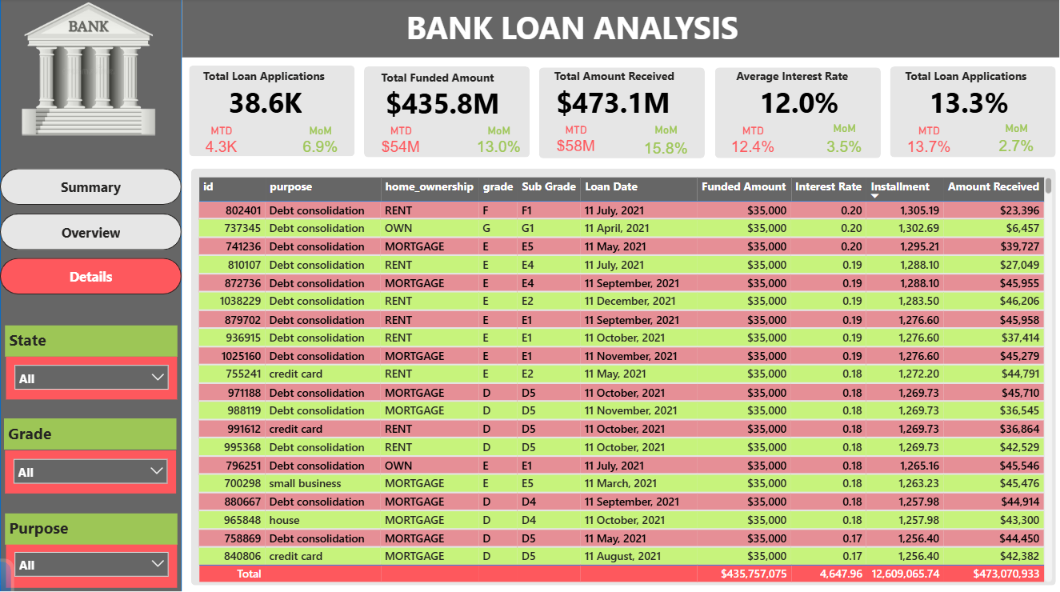

The dashboard page shown, as its layout file describes it:
{"tool":"powerbi","page":{"name":"Details","canvas":[1280,720],"ordinal":2},"visuals":[{"type":"shape","box":[0,0,219.3,719.9],"z":0},{"type":"shape","box":[219.6,0,1060.5,71.2],"z":1000},{"type":"textbox","box":[485,4.8,439.1,60.3],"z":2000},{"type":"shape","box":[228,80.8,200,109.8],"z":3000},{"type":"cardVisual","fields":{"Data":["bank_project financial_loan.Total Loan Application"]},"box":[230.2,96.8,179.8,53.1],"z":4000},{"type":"textbox","box":[239.8,79.9,161.7,32.6],"z":5000},{"type":"cardVisual","title":"MTD","fields":{"Data":["bank_project financial_loan.MTD Loan Application"]},"box":[230.4,152,73.6,38.6],"z":6000},{"type":"shape","box":[439.4,82,200,109.8],"z":7000},{"type":"shape","box":[650.9,83.2,200,109.8],"z":8000},{"type":"shape","box":[1073.7,82,200,109.8],"z":9000},{"type":"shape","box":[862.3,83.7,200,109.6],"z":10000},{"type":"cardVisual","title":"MoM","fields":{"Data":["bank_project financial_loan.MoM Loan Application"]},"box":[345,152,83.2,38.6],"z":11000},{"type":"cardVisual","fields":{"Data":["bank_project financial_loan.Total Funded Amount"]},"box":[439.1,97.7,189.4,53.1],"z":12000},{"type":"textbox","box":[455.4,81.2,161.7,32.6],"z":13000},{"type":"cardVisual","title":"MTD","fields":{"Data":["bank_project financial_loan.MTD Funded Amount"]},"box":[441.6,152,84.5,38.6],"z":14000},{"type":"cardVisual","title":"MoM","fields":{"Data":["bank_project financial_loan.MoM Total Funded Ratio"]},"box":[553.8,152,96.5,38.6],"z":15000},{"type":"cardVisual","fields":{"Data":["bank_project financial_loan.Total Payment Received"]},"box":[653.9,96.5,171.3,53.1],"z":16000},{"type":"textbox","box":[663.9,80.2,161.7,32.6],"z":17000},{"type":"cardVisual","title":"MTD","fields":{"Data":["bank_project financial_loan.MTD Total Amount Received"]},"box":[650.3,150.8,89.3,38.6],"z":18000},{"type":"cardVisual","title":"MoM","fields":{"Data":["bank_project financial_loan.MoM Payment Received Ratio"]},"box":[756.4,150.8,94.1,43.4],"z":19000},{"type":"cardVisual","fields":{"Data":["bank_project financial_loan.Average Amount Ratio"]},"box":[863.8,96.5,200.3,53.1],"z":20000},{"type":"textbox","box":[883.1,79.6,161.7,32.6],"z":21000},{"type":"cardVisual","title":"MTD","fields":{"Data":["bank_project financial_loan.MTD Avg Interest Rate"]},"box":[863.8,152,89.3,38.6],"z":22000},{"type":"cardVisual","title":"MoM","fields":{"Data":["bank_project financial_loan.MoM Avg Interest"]},"box":[973.6,149.6,90.5,43.4],"z":23000},{"type":"cardVisual","fields":{"Data":["bank_project financial_loan.Avg DTI"]},"box":[1073.7,96.5,190.6,53.1],"z":24000},{"type":"textbox","box":[1086.6,79.2,161.7,32.6],"z":25000},{"type":"cardVisual","title":"MTD","fields":{"Data":["bank_project financial_loan.MTD Avg DTI"]},"box":[1073.7,152,94.1,39.8],"z":26000},{"type":"cardVisual","title":"MoM","fields":{"Data":["bank_project financial_loan.MoM Avg DTI"]},"box":[1178.7,149.6,95.3,42.2],"z":27000},{"type":"shape","box":[230.4,205.1,1043.6,503.1],"z":28000},{"type":"slicer","fields":{"Values":["bank_project financial_loan.address_state"]},"box":[7.2,431.8,206.3,51.9],"z":29000},{"type":"slicer","fields":{"Values":["bank_project financial_loan.grade"]},"box":[6,544.8,206.3,51.9],"z":30000},{"type":"slicer","fields":{"Values":["bank_project financial_loan.purpose"]},"box":[7.2,657.8,206.3,53.4],"z":31000},{"type":"textbox","box":[5.8,394.3,207.8,37.5],"z":32000},{"type":"textbox","box":[4.3,506.8,207.8,37.5],"z":33000},{"type":"textbox","box":[5.8,621.3,207.8,37.5],"z":34000},{"type":"image","box":[13.3,0,187,170.1],"z":35000},{"type":"tableEx","fields":{"Values":["bank_project financial_loan.id","bank_project financial_loan.purpose","bank_project financial_loan.home_ownership","bank_project financial_loan.grade","bank_project financial_loan.sub_grade","bank_project financial_loan.Loan_date","bank_project financial_loan.Total Funded Amount","Sum(bank_project financial_loan.int_rate)","Sum(bank_project financial_loan.installment)","bank_project financial_loan.Total Amount Received"]},"box":[233.7,210.6,1040.2,497.8],"z":36000},{"type":"pageNavigator","box":[0,205.1,219.6,152],"z":37000}]}

Visuals, with their boxes in screenshot pixels (x1, y1, x2, y2), scaled from the page's 1280x720 canvas onto the 1060x592 screenshot:
shape: [0, 0, 182, 591]
shape: [182, 0, 1059, 59]
textbox: [402, 4, 765, 54]
shape: [189, 66, 354, 157]
cardVisual - bank_project financial_loan.Total Loan Application: [191, 80, 340, 123]
textbox: [199, 66, 332, 92]
"MTD" cardVisual: [191, 125, 252, 157]
shape: [364, 67, 530, 158]
shape: [539, 68, 705, 159]
shape: [889, 67, 1055, 158]
shape: [714, 69, 880, 159]
"MoM" cardVisual: [286, 125, 355, 157]
cardVisual - bank_project financial_loan.Total Funded Amount: [364, 80, 520, 124]
textbox: [377, 67, 511, 94]
"MTD" cardVisual: [366, 125, 436, 157]
"MoM" cardVisual: [459, 125, 539, 157]
cardVisual - bank_project financial_loan.Total Payment Received: [542, 79, 683, 123]
textbox: [550, 66, 684, 93]
"MTD" cardVisual: [539, 124, 612, 156]
"MoM" cardVisual: [626, 124, 704, 160]
cardVisual - bank_project financial_loan.Average Amount Ratio: [715, 79, 881, 123]
textbox: [731, 65, 865, 92]
"MTD" cardVisual: [715, 125, 789, 157]
"MoM" cardVisual: [806, 123, 881, 159]
cardVisual - bank_project financial_loan.Avg DTI: [889, 79, 1047, 123]
textbox: [900, 65, 1034, 92]
"MTD" cardVisual: [889, 125, 967, 158]
"MoM" cardVisual: [976, 123, 1055, 158]
shape: [191, 169, 1055, 582]
slicer - bank_project financial_loan.address_state: [6, 355, 177, 398]
slicer - bank_project financial_loan.grade: [5, 448, 176, 491]
slicer - bank_project financial_loan.purpose: [6, 541, 177, 585]
textbox: [5, 324, 177, 355]
textbox: [4, 417, 176, 448]
textbox: [5, 511, 177, 542]
image: [11, 0, 166, 140]
tableEx - bank_project financial_loan.id x bank_project financial_loan.purpose: [194, 173, 1055, 582]
pageNavigator: [0, 169, 182, 294]
